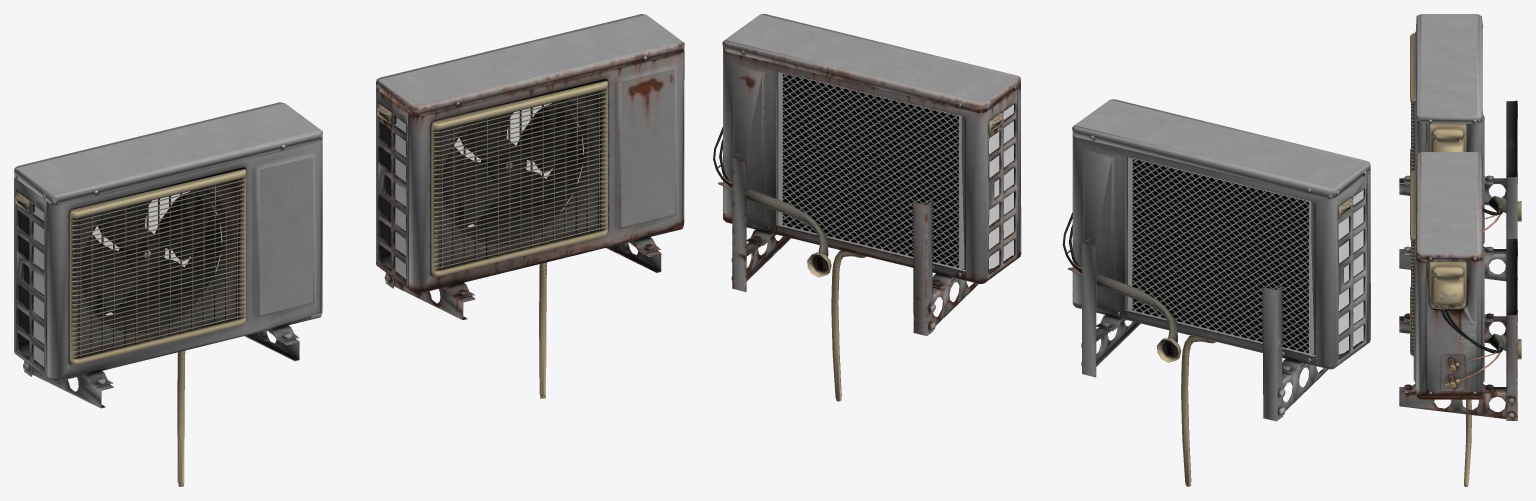
Rendered from ar_condicionado.glb.
The picture shows the model from 3 angles, left to right: view 1: azimuth 30°, elevation 25°; view 2: azimuth 150°, elevation 25°; view 3: azimuth 270°, elevation 25°; orthographic projection. The views are drawn at different scales.
Visible parts, largest first — view 1: ar_condicionado; view 2: ar_condicionado; view 3: ar_condicionado.
Boxes of the visible parts, box(x1,y1,x2,y2) form: ar_condicionado: box(14, 14, 684, 486); ar_condicionado: box(713, 14, 1370, 486); ar_condicionado: box(1399, 14, 1521, 486).
Bounding box in the file's own units: 1.8 × 0.9279 × 0.3742.
4 materials, 4 textured.
